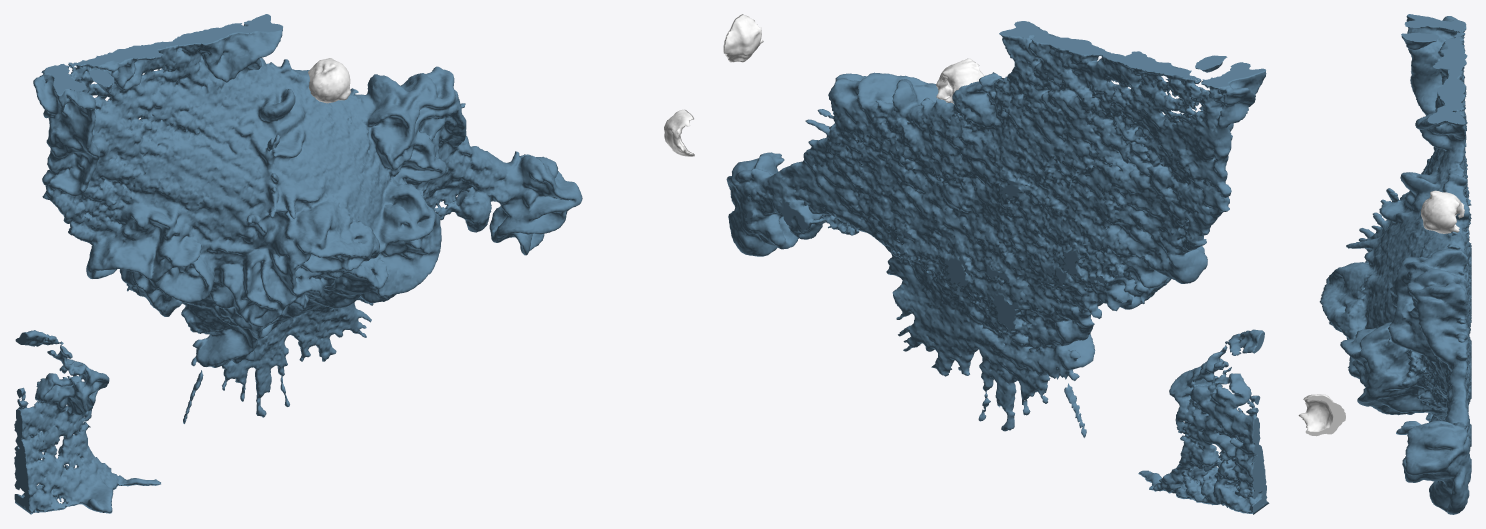
3 views of the same model, side by side, from view 1: azimuth 30°, elevation 25°; view 2: azimuth 150°, elevation 25°; view 3: azimuth 270°, elevation 25° (orthographic). The views are drawn at different scales.
Visible parts, largest first — view 1: surface (×2); view 2: surface (×2); view 3: surface (×2).
Boxes of the visible parts, box(x1,y1,x2,y2) form: surface (×2): box(14, 14, 694, 514); surface (×2): box(723, 14, 1269, 514); surface (×2): box(1298, 14, 1471, 514).
Size of the model in its own units: 640 by 436 by 172.
